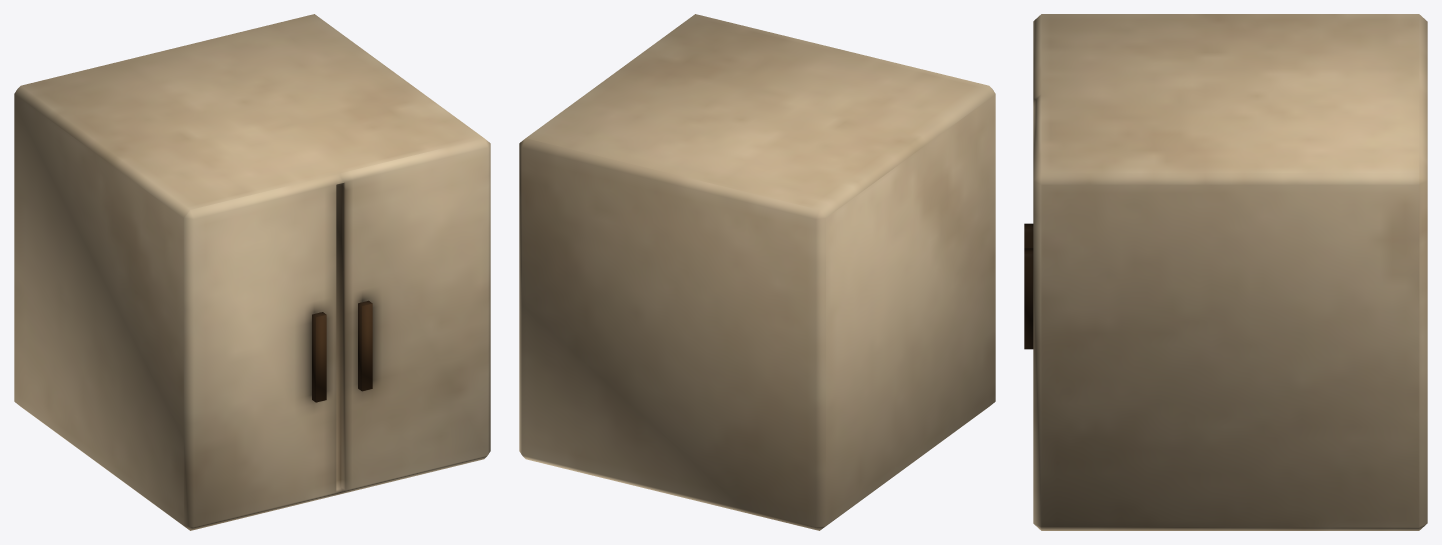
Rendered from Kitchen Upper Cabinet1.fbx.
3 views of the same model, side by side, from view 1: azimuth 30°, elevation 25°; view 2: azimuth 150°, elevation 25°; view 3: azimuth 270°, elevation 25° (orthographic). The views are drawn at different scales.
Visible parts, largest first — view 1: Kitchen Upper Cabinet1; view 2: Kitchen Upper Cabinet1; view 3: Kitchen Upper Cabinet1.
Boxes of the visible parts, x1,y1,x2,y2 form: Kitchen Upper Cabinet1: [14, 14, 490, 530]; Kitchen Upper Cabinet1: [519, 14, 995, 530]; Kitchen Upper Cabinet1: [1024, 14, 1427, 530].
Bounding box in the file's own units: 1 × 1 × 1.02.
1 material, 1 textured.
